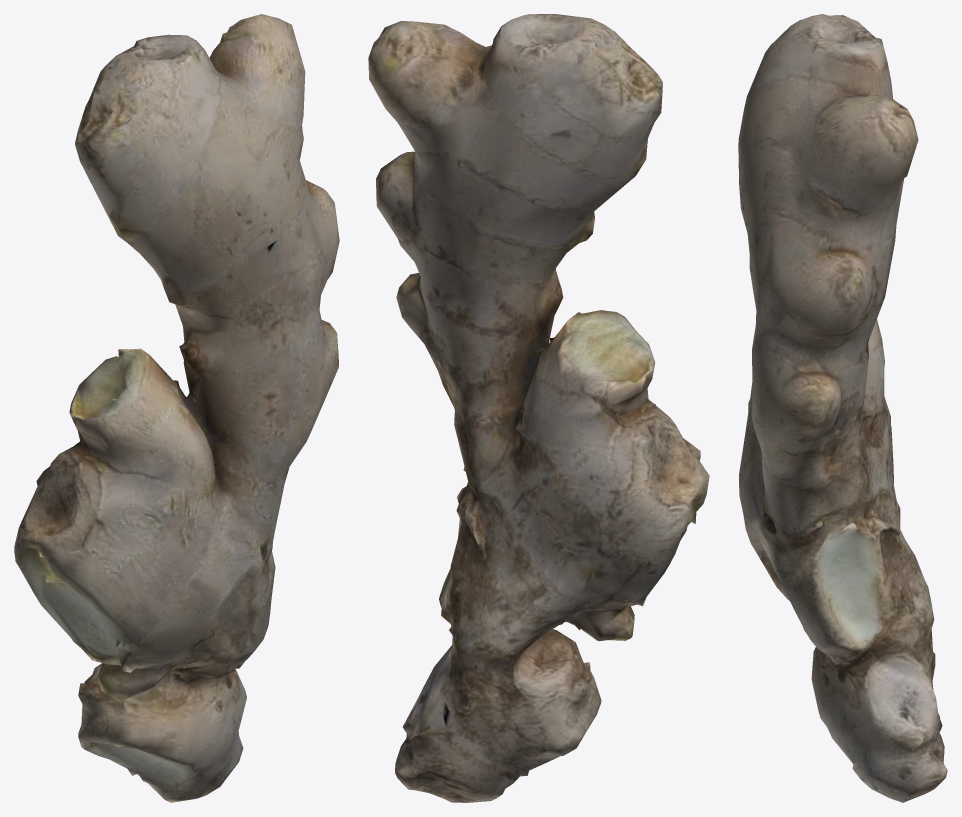
The model's file is food_ginger_01.glb.
3 views of the same model, side by side, from view 1: azimuth 30°, elevation 25°; view 2: azimuth 150°, elevation 25°; view 3: azimuth 270°, elevation 25° (orthographic). The views are drawn at different scales.
Parts seen in each view (by area): view 1: food_ginger_01; view 2: food_ginger_01; view 3: food_ginger_01.
Part boxes in pixels (x1=…): food_ginger_01: x1=14, y1=14, x2=339, y2=802; food_ginger_01: x1=368, y1=14, x2=709, y2=802; food_ginger_01: x1=738, y1=14, x2=947, y2=802.
Bounding box in the file's own units: 0.2398 × 0.5746 × 0.1474.
1 material, 1 textured.
